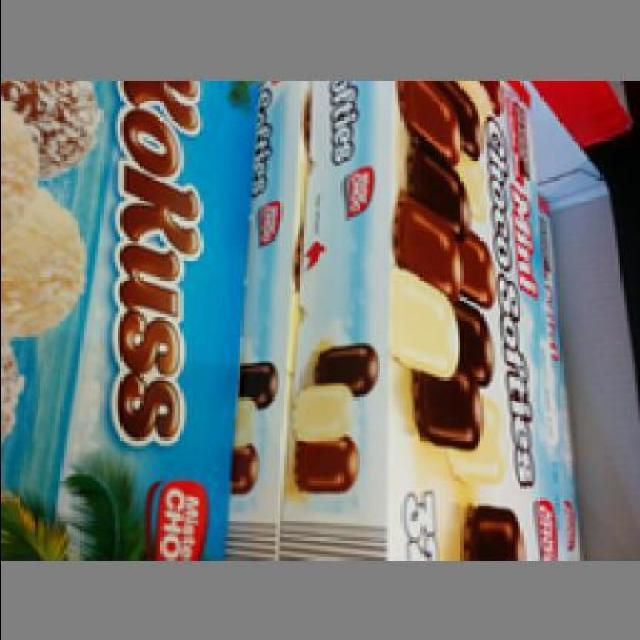Merendine: (283, 77, 551, 557), (3, 77, 263, 557)
